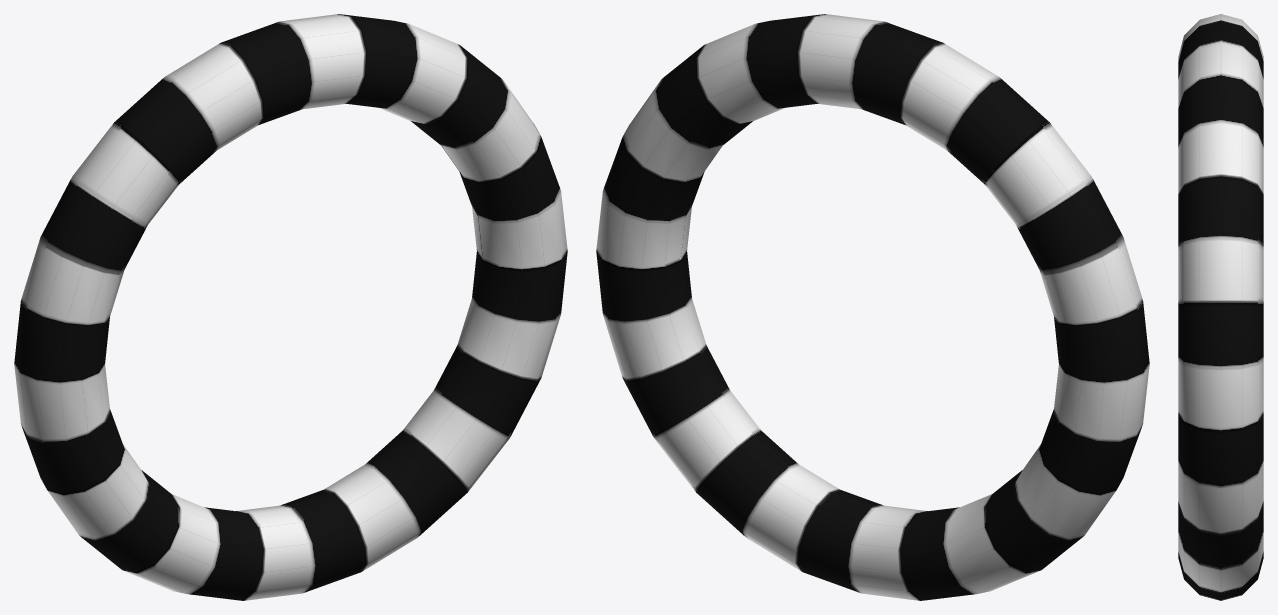
Rendered from Goal.fbx.
3 views of the same model, side by side, from view 1: azimuth 30°, elevation 25°; view 2: azimuth 150°, elevation 25°; view 3: azimuth 270°, elevation 25° (orthographic). The views are drawn at different scales.
Parts seen in each view (by area): view 1: Torus.001; view 2: Torus.001; view 3: Torus.001.
Boxes of the visible parts, <box> form: Torus.001: <box>14,14,567,600</box>; Torus.001: <box>596,14,1149,600</box>; Torus.001: <box>1178,14,1263,600</box>.
Size of the model in its own units: 23.4 by 23.4 by 3.4.
